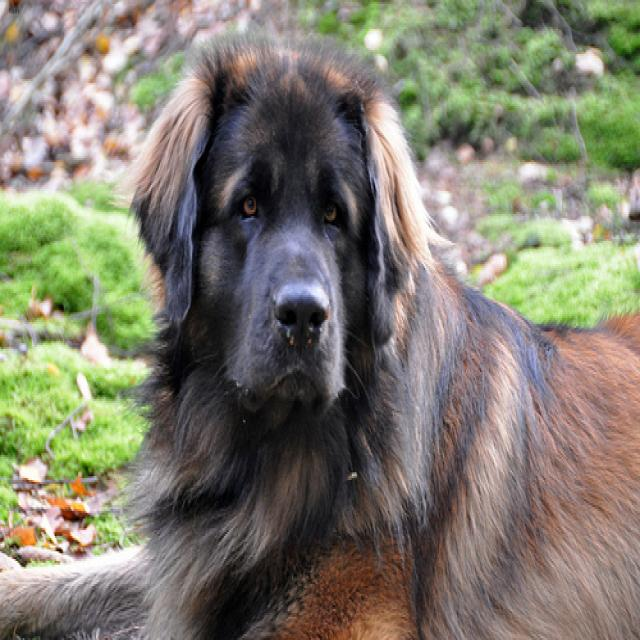dog-leonberger: (1, 4, 637, 636)
